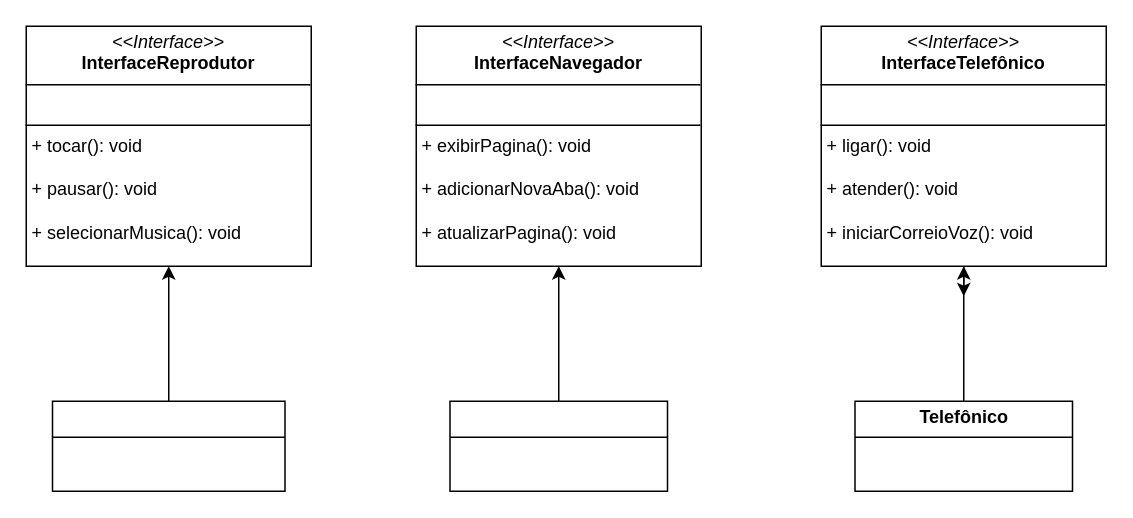
This 1133x518 diagram has some shape labels left out. Here are the shapes that lost their labels. From the top down, the centre of each, then its label:
At pixel 168 445: "Reprodutor".
At pixel 558 445: "Navegador".
